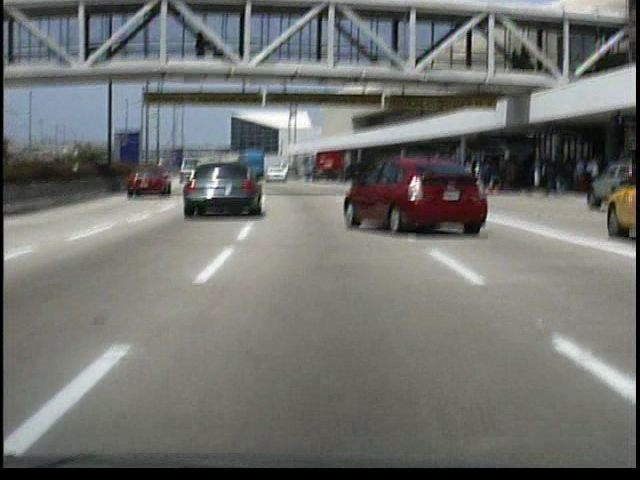person: (192, 28, 207, 58)
